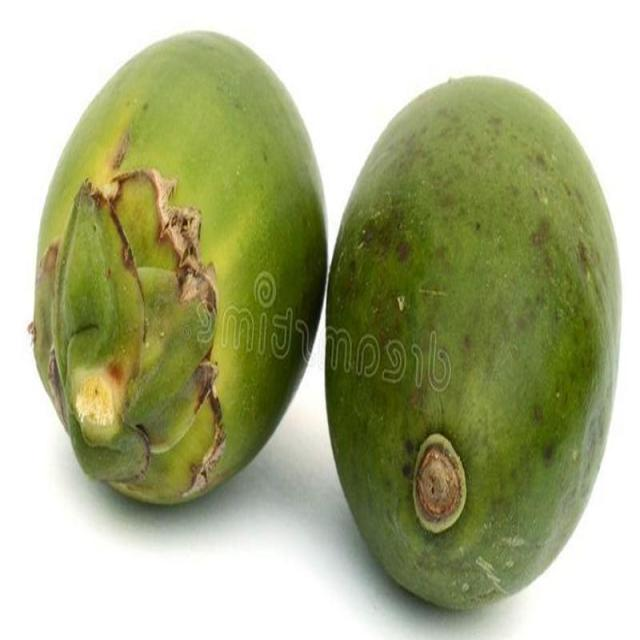good: (323, 77, 623, 615), (29, 31, 330, 509)
